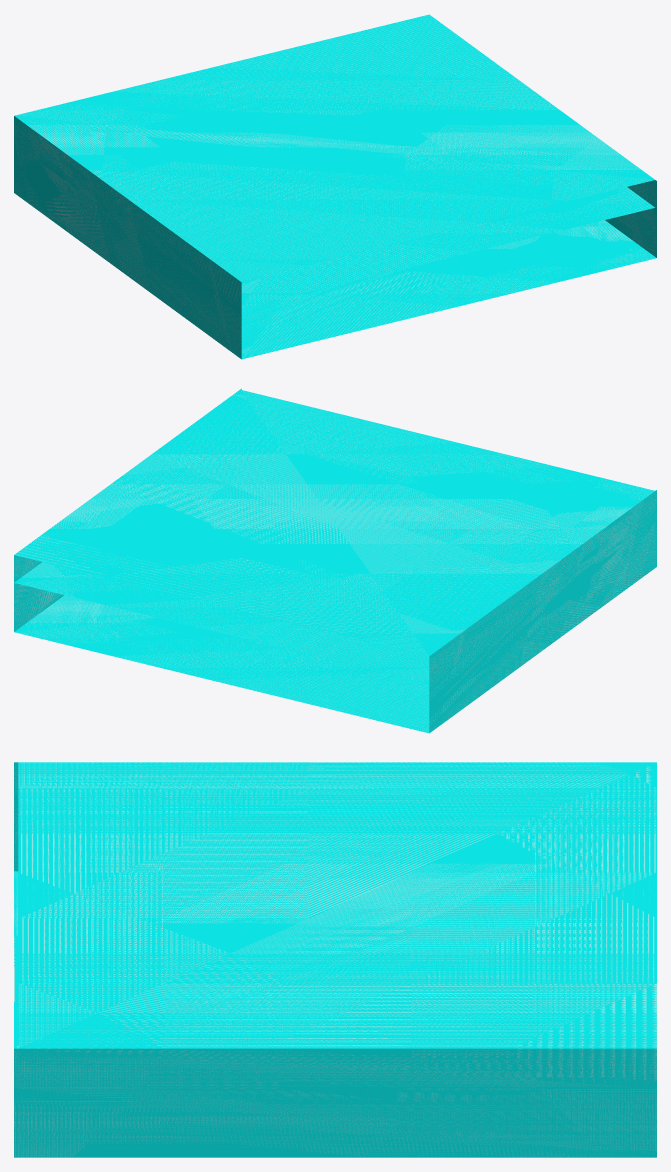
File: original-4.obj
The picture shows the model from 3 angles, top to bottom: view 1: azimuth 30°, elevation 25°; view 2: azimuth 150°, elevation 25°; view 3: azimuth 270°, elevation 25°; orthographic projection. The views are drawn at different scales.
Parts seen in each view (by area): view 1: #ID45; view 2: #ID45; view 3: #ID45.
Part boxes in pixels (left/top/right/bottom): #ID45: left=14, top=14, right=656, bottom=359; #ID45: left=14, top=388, right=656, bottom=733; #ID45: left=14, top=762, right=656, bottom=1157.
Size of the model in its own units: 0.3927 by 0.0697 by 0.3726.
